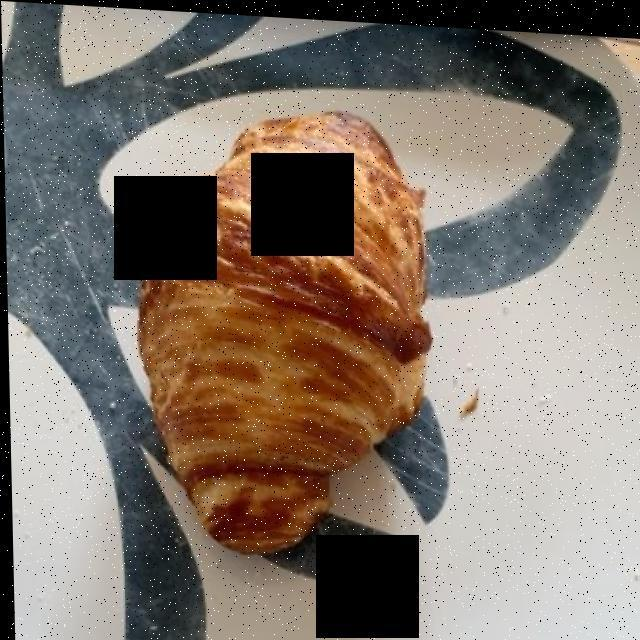croissant: (141, 109, 424, 546)
